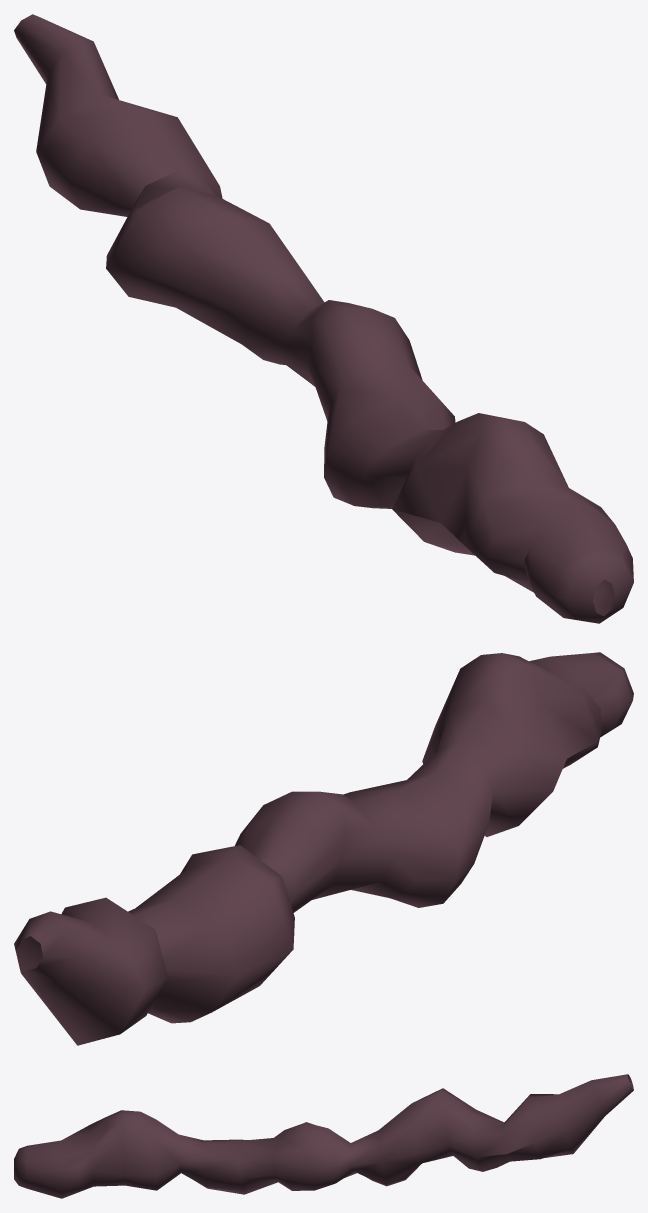
Rendered from etc_musashi_alter_arm_eff_flame_musashi_katana.glb.
3 views of the same model, one above another, from view 1: azimuth 30°, elevation 25°; view 2: azimuth 150°, elevation 25°; view 3: azimuth 270°, elevation 25° (orthographic). The views are drawn at different scales.
Size of the model in its own units: 0.5068 by 0.6074 by 2.82.
